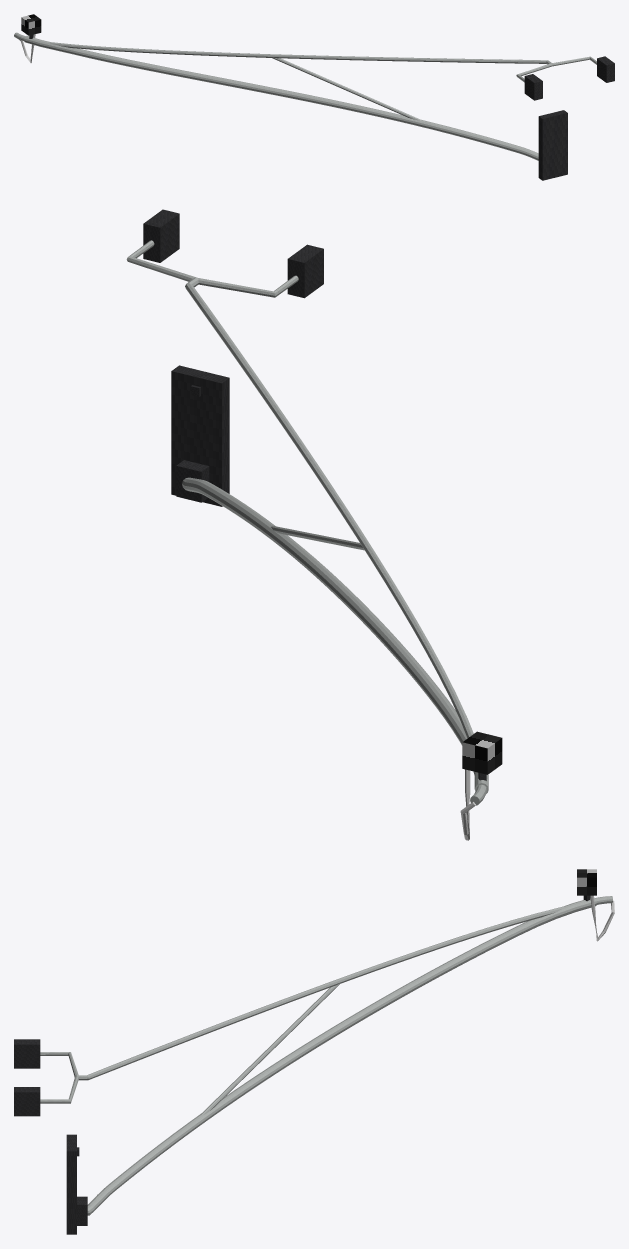
File: arm_7_left_wired.obj
3 views of the same model, one above another, from view 1: azimuth 30°, elevation 25°; view 2: azimuth 150°, elevation 25°; view 3: azimuth 270°, elevation 25° (orthographic). The views are drawn at different scales.
Visible parts, largest first — view 1: pole_light_mount_7_left_wired; view 2: pole_light_mount_7_left_wired; view 3: pole_light_mount_7_left_wired.
Boxes of the visible parts, bbox=[...] form: pole_light_mount_7_left_wired: bbox=[14, 14, 614, 180]; pole_light_mount_7_left_wired: bbox=[126, 209, 502, 840]; pole_light_mount_7_left_wired: bbox=[14, 869, 614, 1234].
Size of the model in its own units: 5.63 by 1.68 by 5.71.
